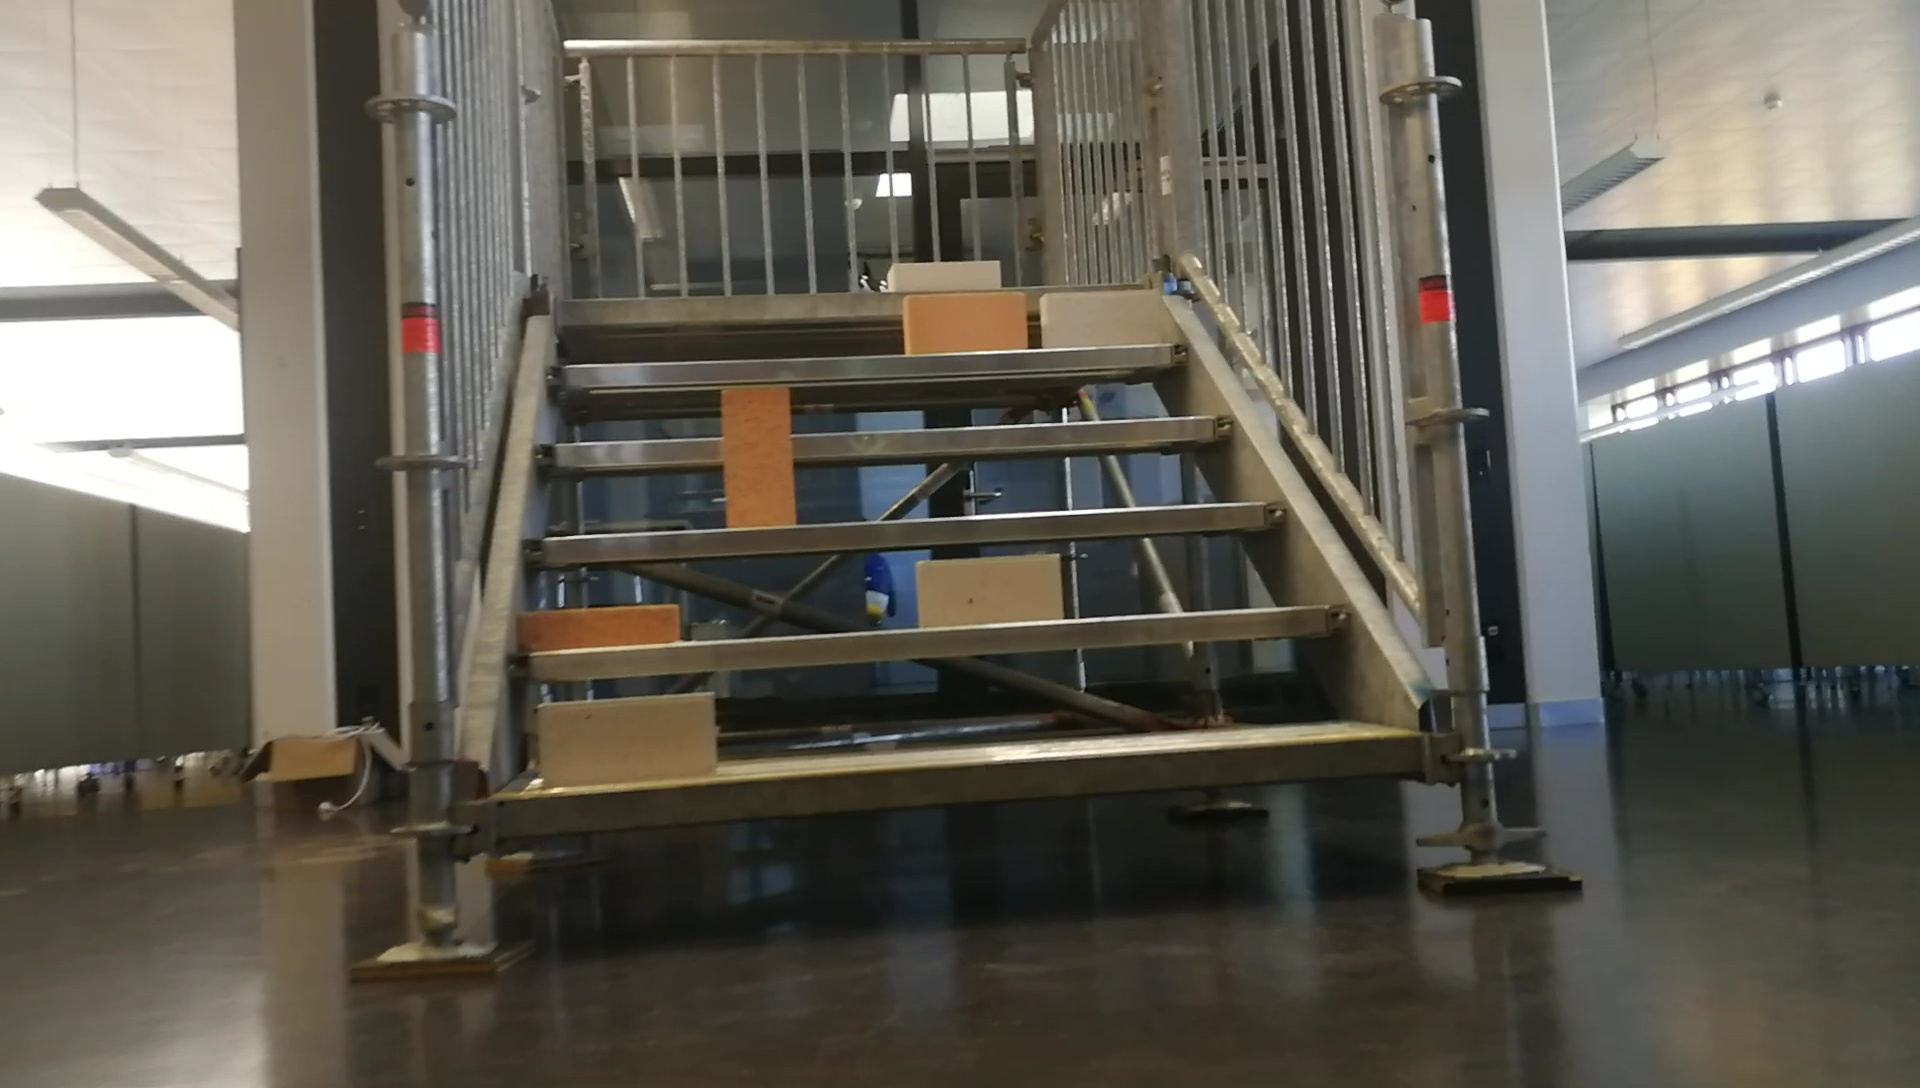brick: (541, 698, 713, 781), (918, 555, 1058, 626), (723, 386, 793, 528), (902, 291, 1022, 351), (522, 605, 678, 648), (1043, 290, 1160, 346), (887, 262, 997, 290)
edge: (487, 727, 1420, 832), (514, 608, 1352, 677), (527, 502, 1286, 566), (535, 413, 1240, 469), (545, 338, 1193, 390)
stairs: (334, 3, 1578, 980)
steps: (472, 247, 1445, 856)
